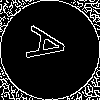A: (25, 25, 77, 67)
